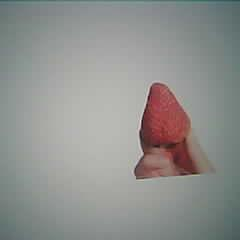straw-ripe: (140, 83, 191, 144)
